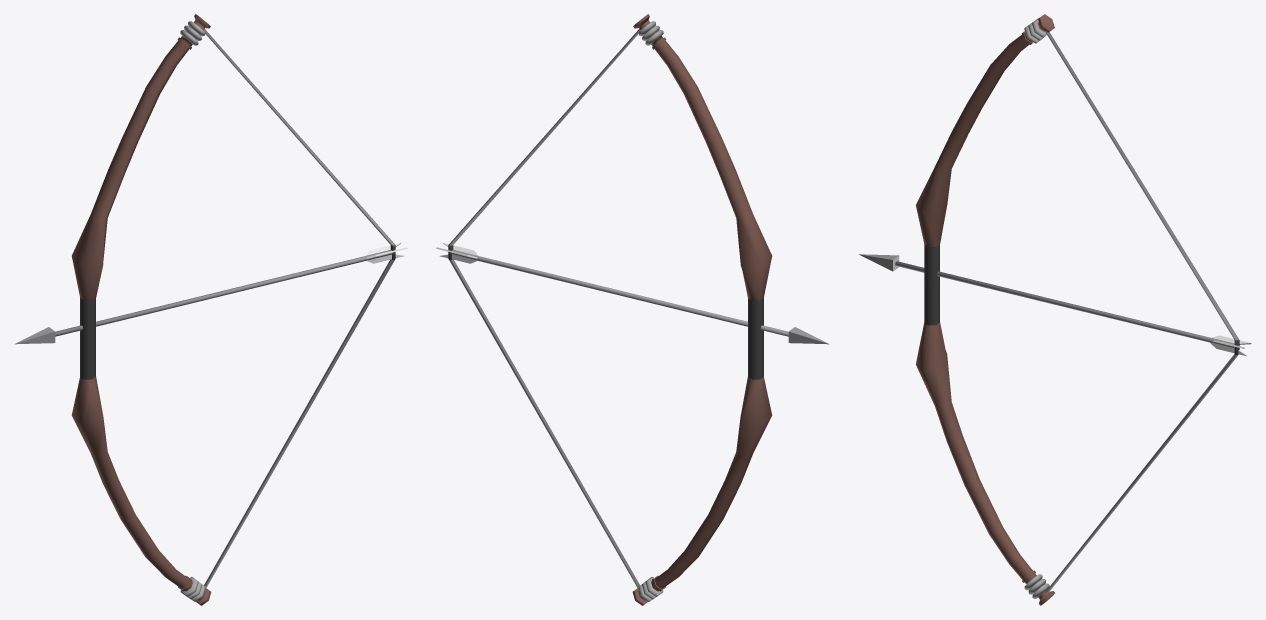
The model's file is Boww.fbx.
3 views of the same model, side by side, from view 1: azimuth 30°, elevation 25°; view 2: azimuth 150°, elevation 25°; view 3: azimuth 330°, elevation 25° (orthographic).
Visible parts, largest first — view 1: Bow_basic, arrow_basic; view 2: Bow_basic, arrow_basic; view 3: Bow_basic, arrow_basic.
Boxes of the visible parts, <box> form: Bow_basic: <box>71,14,395,605</box>; arrow_basic: <box>14,243,407,344</box>; Bow_basic: <box>448,14,772,605</box>; arrow_basic: <box>436,243,829,344</box>; Bow_basic: <box>916,14,1239,605</box>; arrow_basic: <box>859,254,1251,356</box>.
Bounding box in the file's own units: 89.81 × 129 × 9.04.
